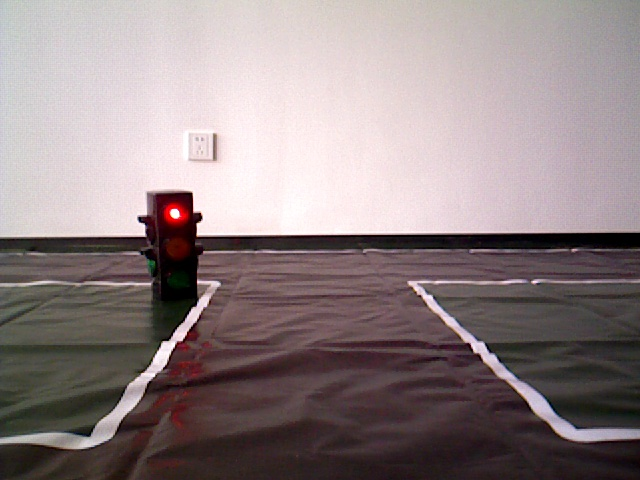red: (145, 193, 194, 303)
